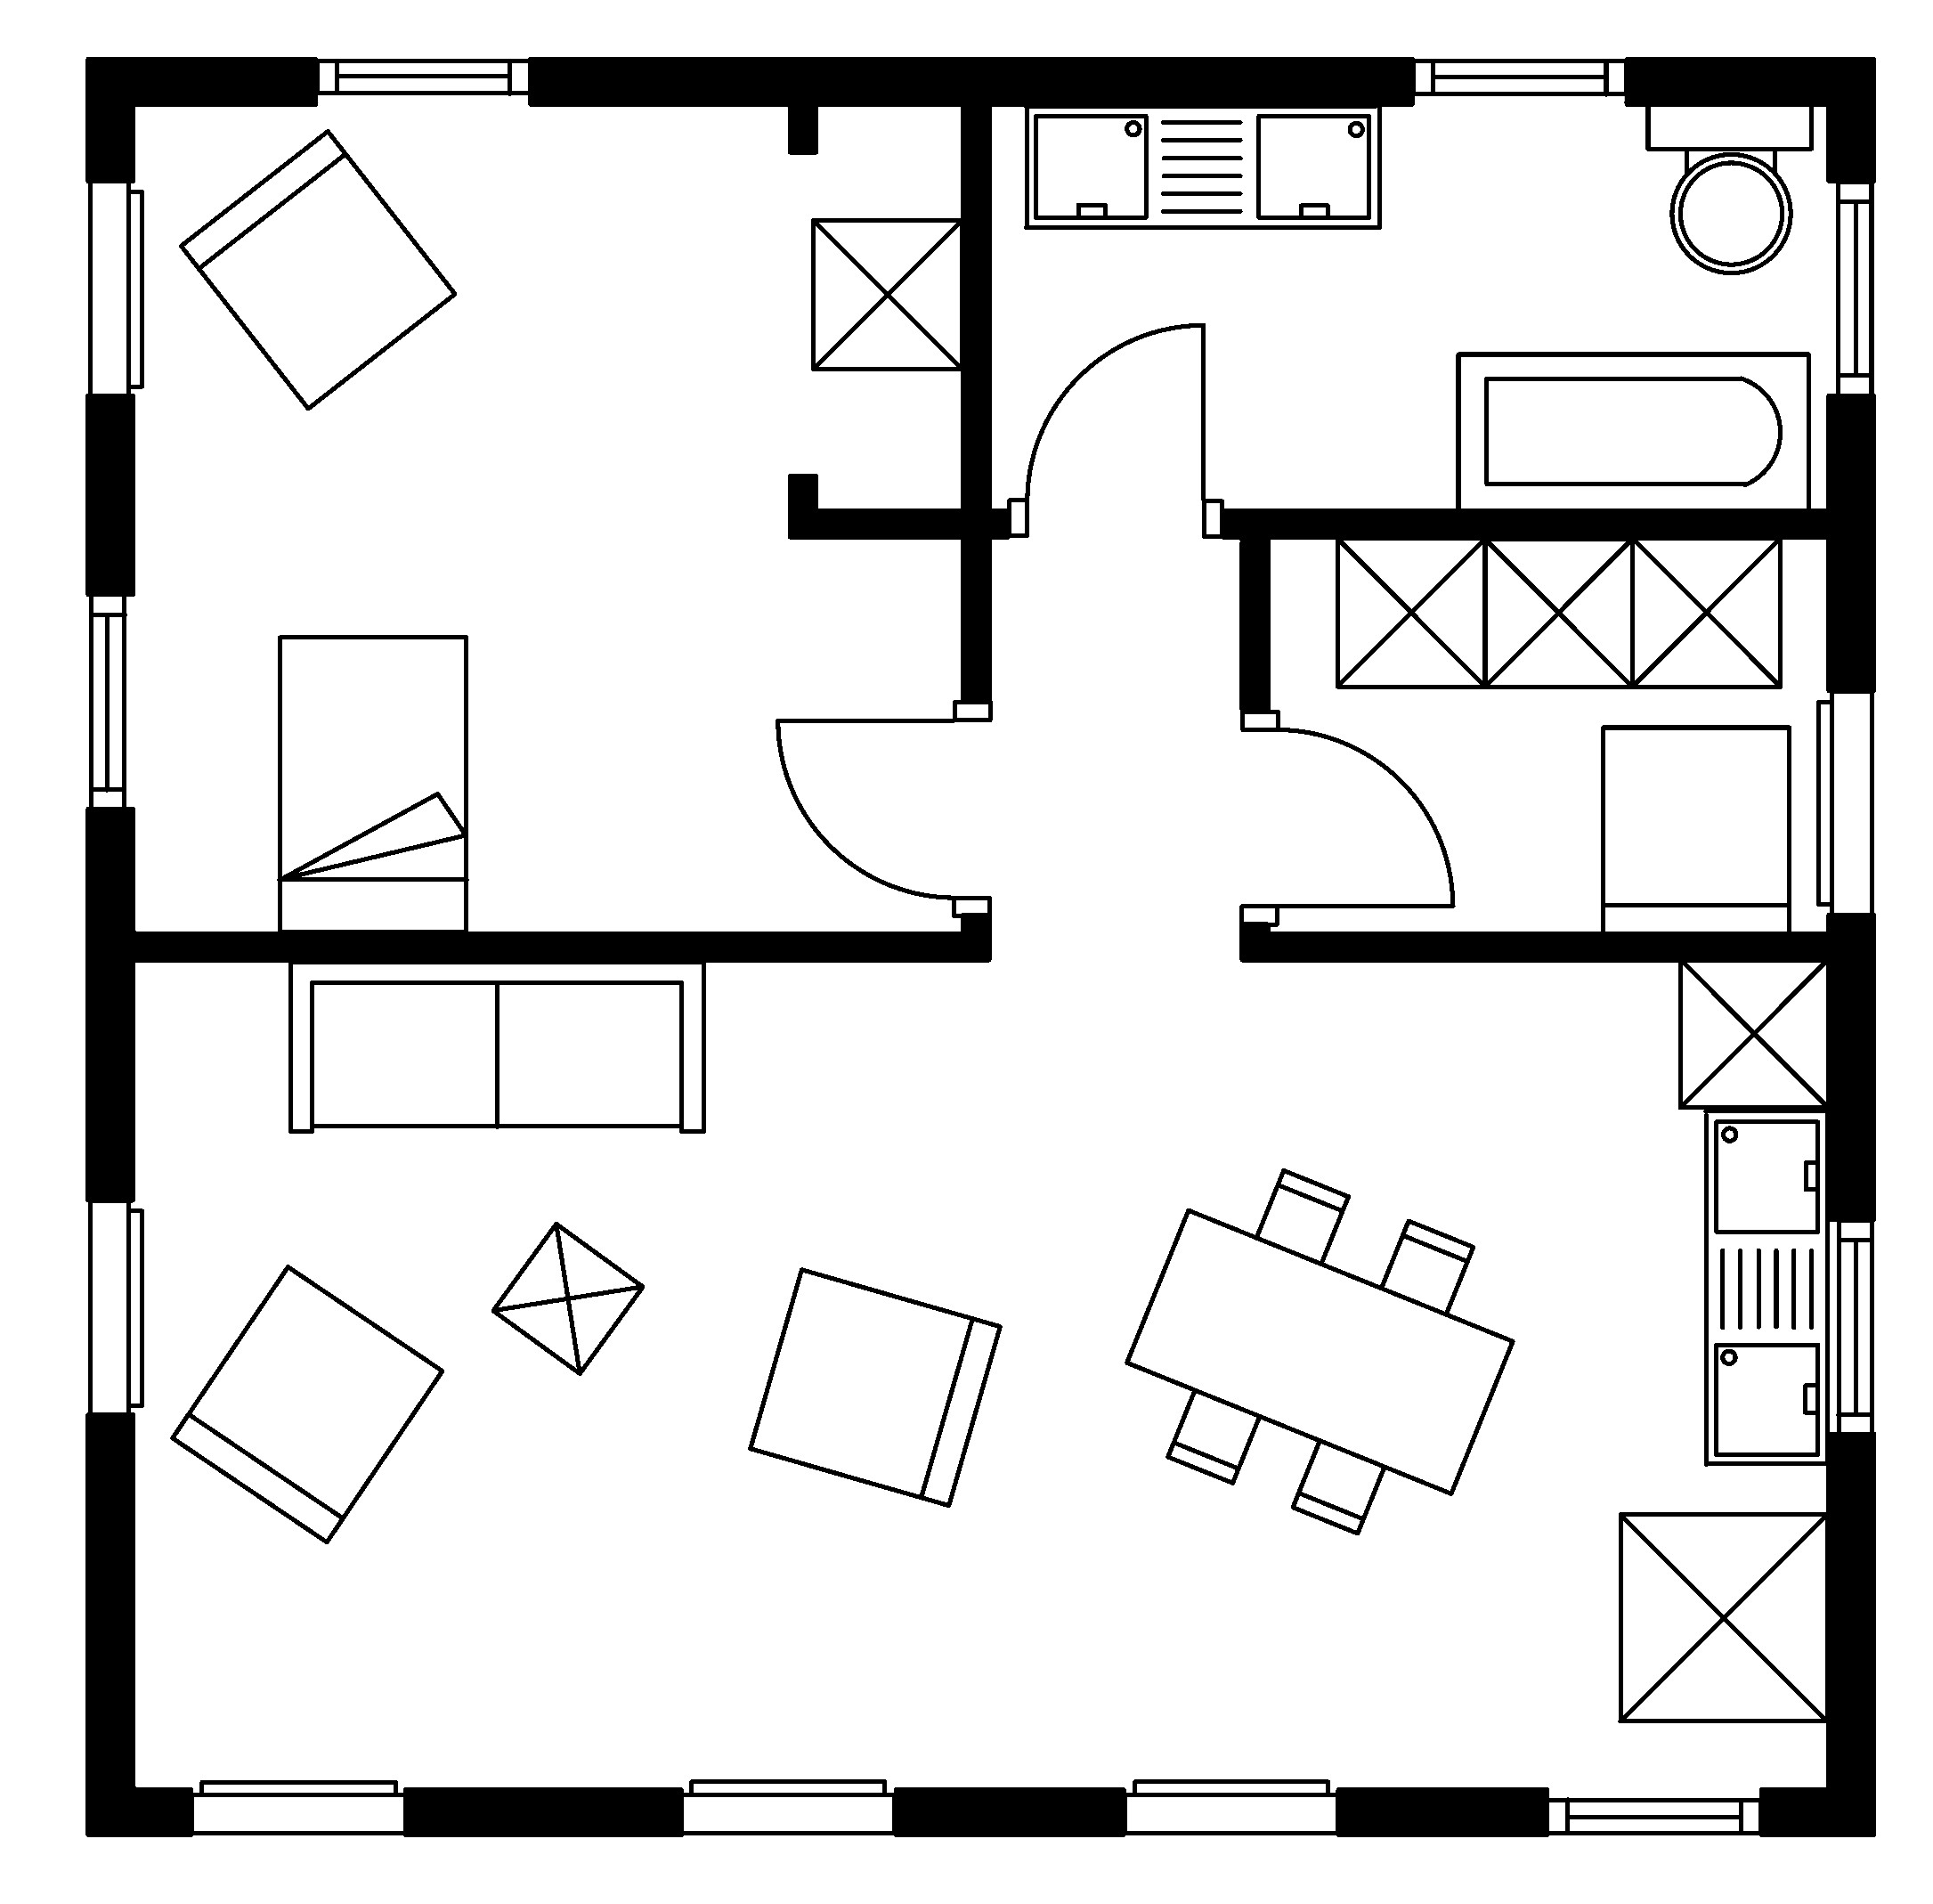bed: (275, 633, 469, 935)
coffee_table: (1616, 1510, 1830, 1724), (488, 1221, 645, 1377), (809, 216, 966, 371), (1480, 534, 1635, 689), (1628, 534, 1783, 689), (1333, 534, 1489, 689), (1675, 955, 1830, 1111)
dining_table: (1122, 1166, 1515, 1536)
large_sink: (1644, 101, 1814, 274)
large_sofa: (286, 959, 706, 1135)
small_sofa: (178, 127, 458, 411), (169, 1262, 444, 1545), (746, 1266, 1002, 1508), (1598, 724, 1792, 936)
tub: (1454, 350, 1811, 513)
twin_sink: (1021, 101, 1382, 230), (1701, 1107, 1830, 1468)
